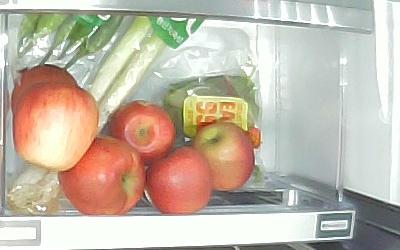apple: (13, 81, 100, 171), (58, 136, 145, 214), (144, 146, 211, 212), (108, 100, 175, 165), (193, 123, 254, 190), (11, 65, 77, 114)
